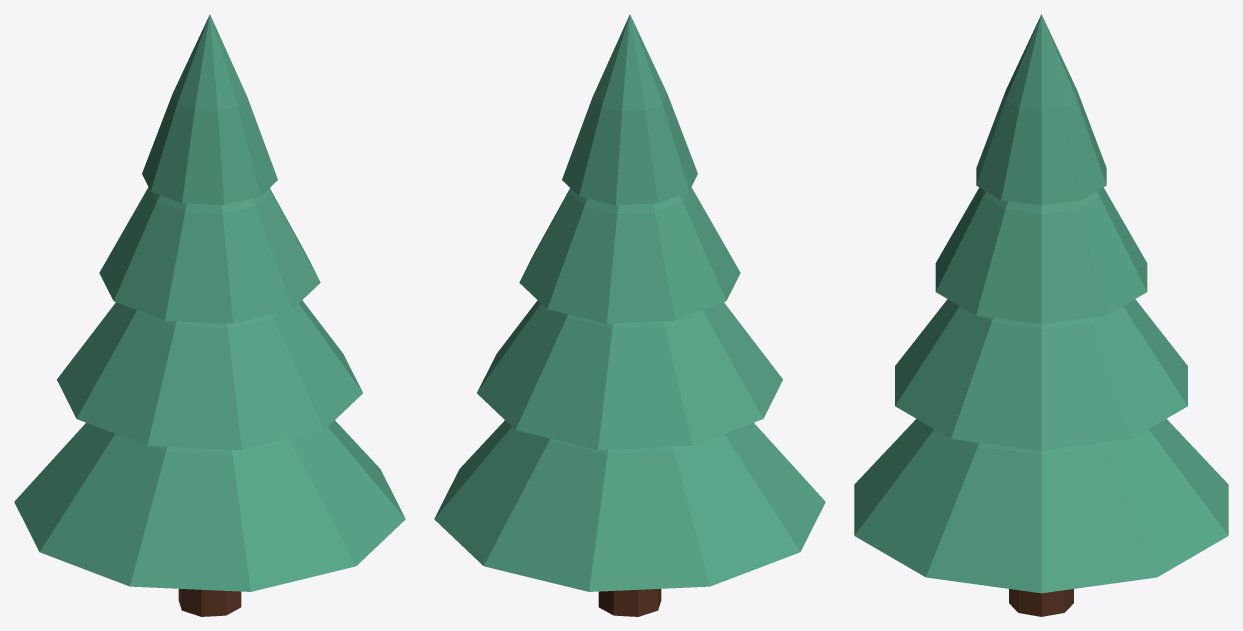
Rendered from ParkParkDecorPine.obj.
3 views of the same model, side by side, from view 1: azimuth 30°, elevation 25°; view 2: azimuth 150°, elevation 25°; view 3: azimuth 270°, elevation 25° (orthographic).
Parts seen in each view (by area): view 1: ParkParkDecorPine; view 2: ParkParkDecorPine; view 3: ParkParkDecorPine.
Boxes of the visible parts, <box> form: ParkParkDecorPine: <box>14,14,405,616</box>; ParkParkDecorPine: <box>434,14,825,616</box>; ParkParkDecorPine: <box>854,14,1228,616</box>.
Size of the model in its own units: 4.6 by 7.6 by 4.37.
